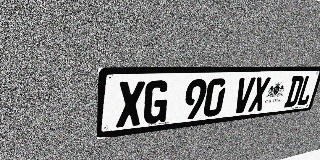0: (202, 78, 227, 117)
9: (182, 79, 208, 120)
D: (284, 76, 305, 108)
G: (142, 80, 170, 125)
L: (296, 75, 316, 106)
V: (232, 77, 256, 114)
X: (116, 81, 145, 128), (248, 77, 271, 112)
